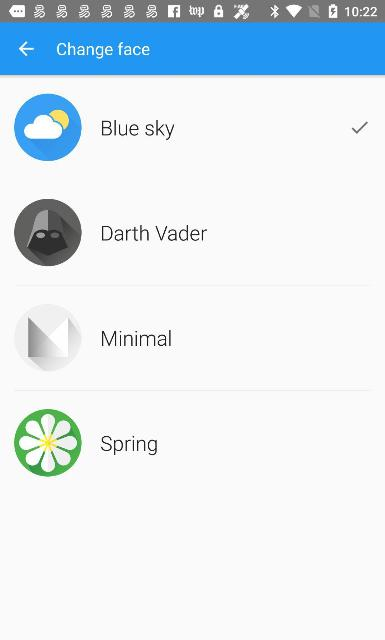Icon: (18, 41, 34, 57), (352, 122, 368, 134)
Image: (14, 409, 82, 477), (14, 198, 82, 266), (14, 93, 82, 161), (14, 304, 82, 371)
List: (0, 74, 385, 495)
Text: (102, 225, 206, 241), (56, 42, 149, 58), (102, 120, 174, 140), (101, 435, 157, 455), (102, 330, 170, 346)
Toolbar: (0, 23, 384, 75)
UpperTaskBar: (0, 0, 384, 22)
